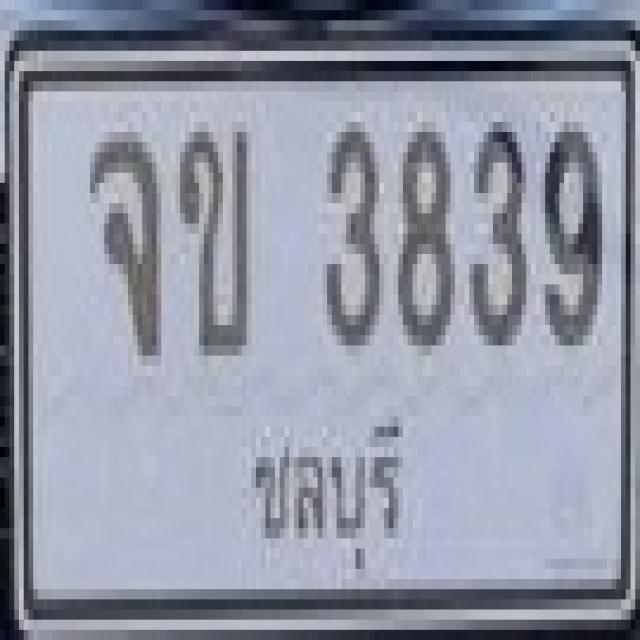license_plate: (4, 20, 640, 639)
